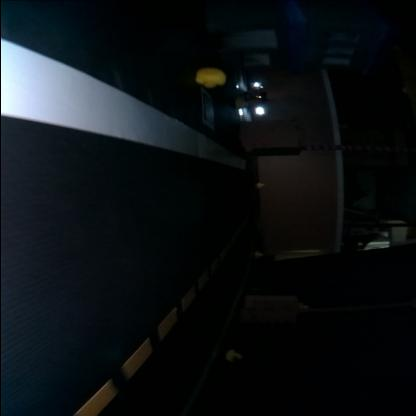Duckie: (196, 69, 227, 87), (225, 350, 243, 362), (258, 183, 264, 189), (258, 254, 262, 258)
QR code: (201, 91, 215, 129)
